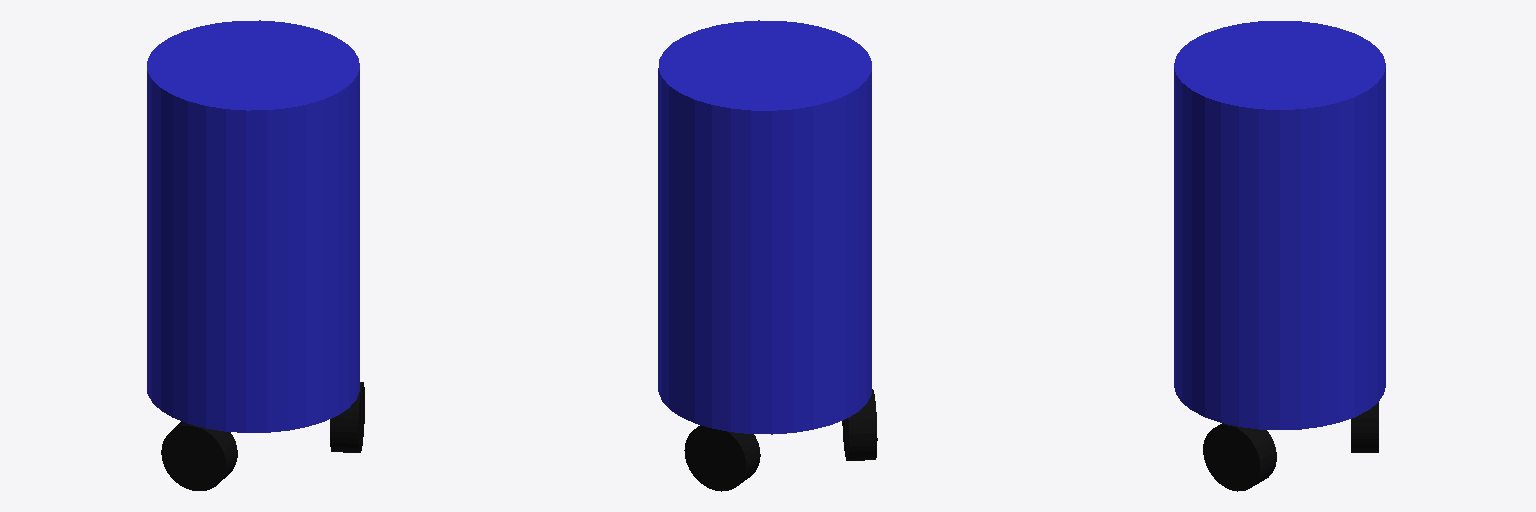
The robot description file, URDF, robot "holonomic_robot":
<?xml version="1.0"?>
<robot name="holonomic_robot">

  <!-- Colors -->
  <material name="blue">
    <color rgba="0.2 0.2 0.8 1.0"/>
  </material>
  
  <material name="black">
    <color rgba="0.1 0.1 0.1 1.0"/>
  </material>
  
  <material name="red">
    <color rgba="0.8 0.2 0.2 1.0"/>
  </material>

  <!-- Base footprint (ground projection) -->
  <link name="base_footprint"/>

  <joint name="base_joint" type="fixed">
    <parent link="base_footprint"/>
    <child link="base_link"/>
    <origin xyz="0 0 0.05" rpy="0 0 0"/>
  </joint>

  <!-- Base link (chassis) -->
  <link name="base_link">
    <visual>
      <origin xyz="0 0 0.25" rpy="0 0 0"/>
      <geometry>
        <cylinder radius="0.15" length="0.5"/>
      </geometry>
      <material name="blue"/>
    </visual>
    <collision>
      <origin xyz="0 0 0.25" rpy="0 0 0"/>
      <geometry>
        <cylinder radius="0.15" length="0.5"/>
      </geometry>
    </collision>
    <inertial>
      <origin xyz="0 0 0" rpy="0 0 0"/>
      <mass value="5.0"/>
      <inertia ixx="0.0254167" ixy="0.0" ixz="0.0" 
               iyy="0.0254167" iyz="0.0" izz="0.05"/>
    </inertial>
  </link>

  <!-- Front wheel -->
  <link name="front_wheel_link">
    <visual>
      <origin xyz="0 0 0" rpy="1.5708 0 0"/>
      <geometry>
        <cylinder radius="0.05" length="0.04"/>
      </geometry>
      <material name="black"/>
    </visual>
    <collision>
      <origin xyz="0 0 0" rpy="1.5708 0 0"/>
      <geometry>
        <cylinder radius="0.05" length="0.04"/>
      </geometry>
    </collision>
    <inertial>
      <origin xyz="0 0 0" rpy="1.5708 0 0"/>
      <mass value="0.5"/>
      <inertia ixx="0.000729167" ixy="0.0" ixz="0.0" 
               iyy="0.000729167" iyz="0.0" izz="0.00125"/>
    </inertial>
  </link>

  <joint name="front_wheel_joint" type="continuous">
    <parent link="base_link"/>
    <child link="front_wheel_link"/>
    <origin xyz="0.0 0.12 -0.05" rpy="0 0 0"/>
    <axis xyz="0 1 0"/>
  </joint>

  <!-- Left rear wheel -->
  <link name="left_rear_wheel_link">
    <visual>
      <origin xyz="0 0 0" rpy="1.5708 0 0"/>
      <geometry>
        <cylinder radius="0.05" length="0.04"/>
      </geometry>
      <material name="black"/>
    </visual>
    <collision>
      <origin xyz="0 0 0" rpy="1.5708 0 0"/>
      <geometry>
        <cylinder radius="0.05" length="0.04"/>
      </geometry>
    </collision>
    <inertial>
      <origin xyz="0 0 0" rpy="1.5708 0 0"/>
      <mass value="0.5"/>
      <inertia ixx="0.000729167" ixy="0.0" ixz="0.0" 
               iyy="0.000729167" iyz="0.0" izz="0.00125"/>
    </inertial>
  </link>

  <joint name="left_rear_wheel_joint" type="continuous">
    <parent link="base_link"/>
    <child link="left_rear_wheel_link"/>
    <origin xyz="-0.12 -0.0566 -0.05" rpy="0 0 -0.95"/>
    <axis xyz="0 1 0"/>
  </joint>

  <!-- Right rear wheel -->
  <link name="right_rear_wheel_link">
    <visual>
      <origin xyz="0 0 0" rpy="1.5708 0 0"/>
      <geometry>
        <cylinder radius="0.05" length="0.04"/>
      </geometry>
      <material name="black"/>
    </visual>
    <collision>
      <origin xyz="0 0 0" rpy="1.5708 0 0"/>
      <geometry>
        <cylinder radius="0.05" length="0.04"/>
      </geometry>
    </collision>
    <inertial>
      <origin xyz="0 0 0" rpy="1.5708 0 0"/>
      <mass value="0.5"/>
      <inertia ixx="0.000729167" ixy="0.0" ixz="0.0" 
               iyy="0.000729167" iyz="0.0" izz="0.00125"/>
    </inertial>
  </link>

  <joint name="right_rear_wheel_joint" type="continuous">
    <parent link="base_link"/>
    <child link="right_rear_wheel_link"/>
    <origin xyz="0.12 -0.0566 -0.05" rpy="0 0 0.95"/>
    <axis xyz="0 1 0"/>
  </joint>

  <!-- Lidar sensor -->
  <link name="base_scan">
    <visual>
      <origin xyz="0 0 0" rpy="0 0 0"/>
      <geometry>
        <cylinder radius="0.025" length="0.05"/>
      </geometry>
      <material name="red"/>
    </visual>
    <collision>
      <origin xyz="0 0 0" rpy="0 0 0"/>
      <geometry>
        <cylinder radius="0.025" length="0.05"/>
      </geometry>
    </collision>
    <inertial>
      <origin xyz="0 0 0" rpy="0 0 0"/>
      <mass value="0.1"/>
      <inertia ixx="0.0000229167" ixy="0.0" ixz="0.0" 
               iyy="0.0000229167" iyz="0.0" izz="0.00003125"/>
    </inertial>
  </link>

  <joint name="lidar_joint" type="fixed">
    <parent link="base_link"/>
    <child link="base_scan"/>
    <origin xyz="0 0 0" rpy="0 0 3.14"/>
  </joint>

</robot>

--- Render facts (derived) ---
The picture shows the robot from 3 angles, left to right: view 1: azimuth 30°, elevation 25°; view 2: azimuth 150°, elevation 25°; view 3: azimuth 270°, elevation 25°; orthographic projection.
Robot: holonomic_robot — 6 links, 5 joints (3 continuous, 2 fixed); root link base_footprint; default pose: every joint at zero.
Links seen in each view (by area): view 1: base_link, left_rear_wheel_link, right_rear_wheel_link; view 2: base_link, front_wheel_link, left_rear_wheel_link; view 3: base_link, right_rear_wheel_link, front_wheel_link.
Link boxes in pixels (x1,y1,x2,y2): base_link: (147,20,359,432); left_rear_wheel_link: (161,421,237,490); right_rear_wheel_link: (330,382,364,452); base_link: (658,20,871,434); front_wheel_link: (684,425,760,491); left_rear_wheel_link: (842,389,877,460); base_link: (1174,21,1385,429); right_rear_wheel_link: (1203,423,1276,491); front_wheel_link: (1351,402,1378,452).
Bounding box of the posed robot: 0.3307 × 0.3 × 0.6 m (x, y, z).
Geometry: primitives only (box / cylinder / sphere), no mesh files.
